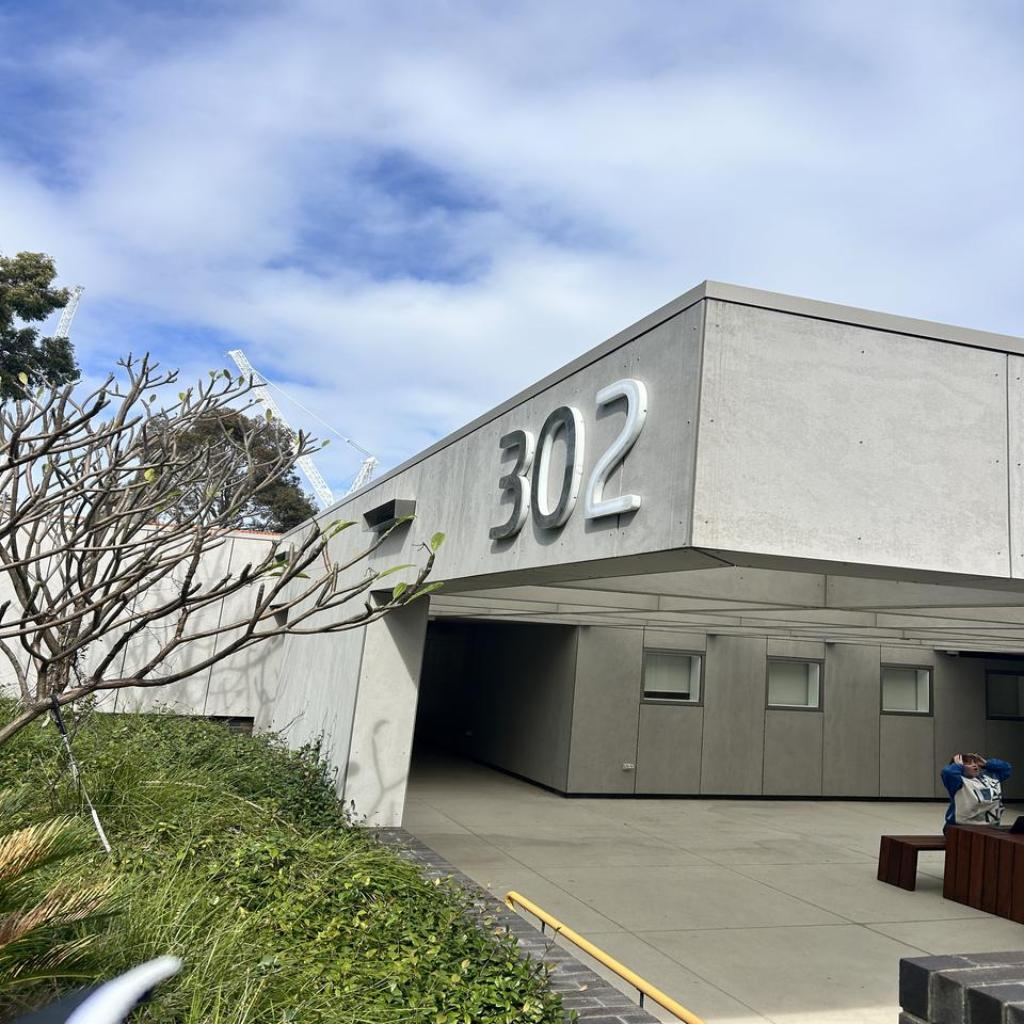BuildingCodes: (486, 374, 650, 546)
